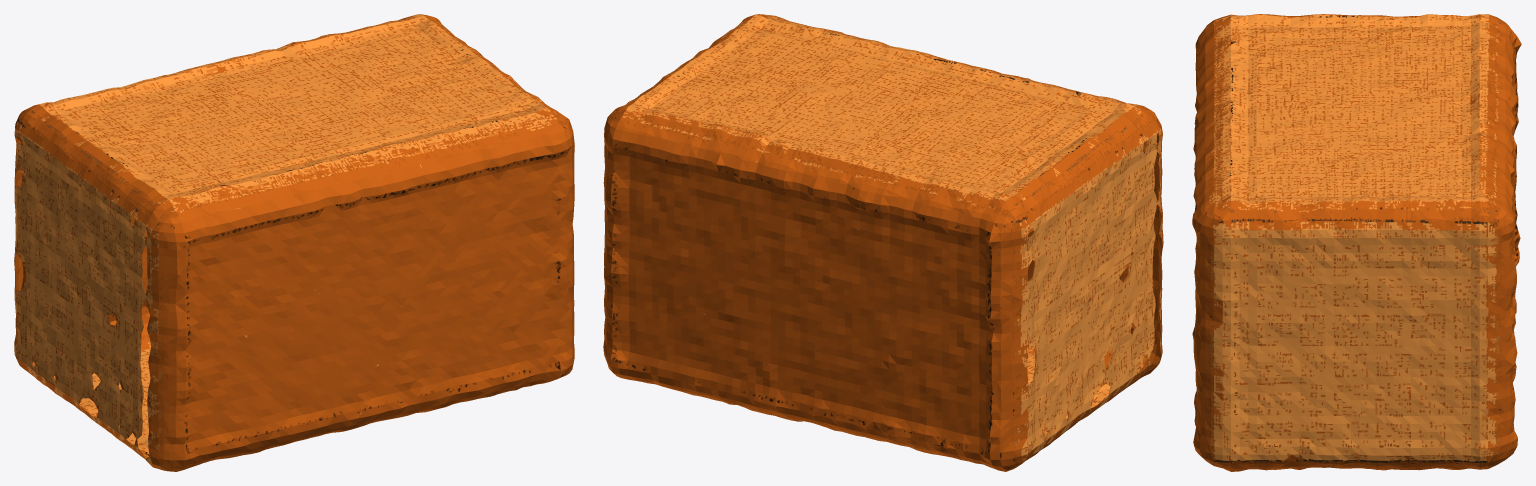
3 renders of one model, left to right at view 1: azimuth 30°, elevation 25°; view 2: azimuth 150°, elevation 25°; view 3: azimuth 270°, elevation 25°, orthographic.
Size of the model in its own units: 0.0855 by 0.0533 by 0.0577.
Materials: 1 (1 with a texture image).
